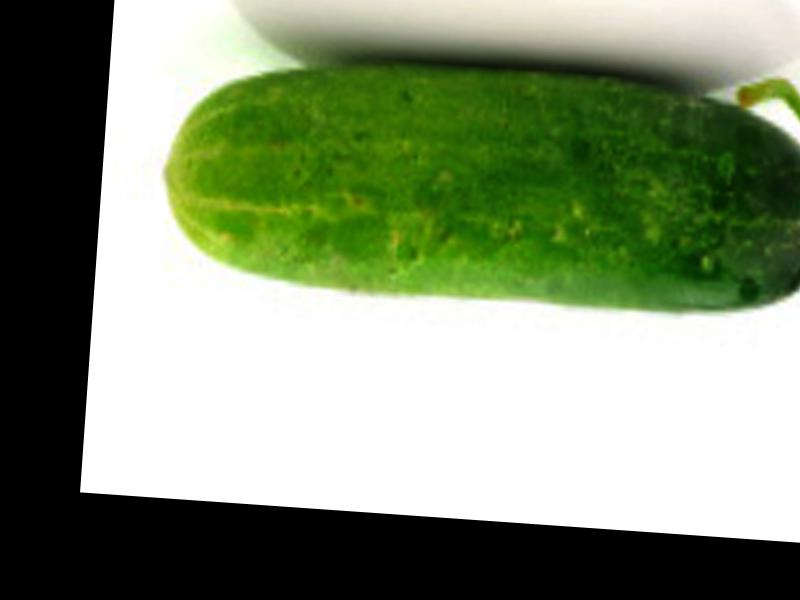Cucumber: (151, 36, 800, 324)
